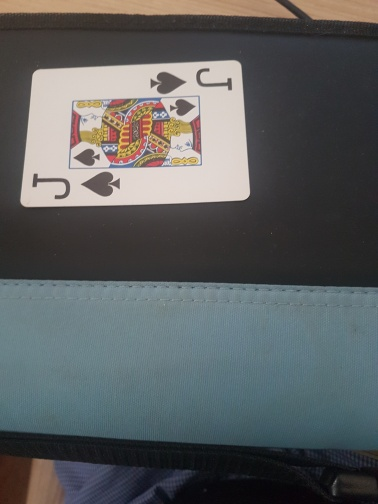jack: (19, 59, 257, 210)
